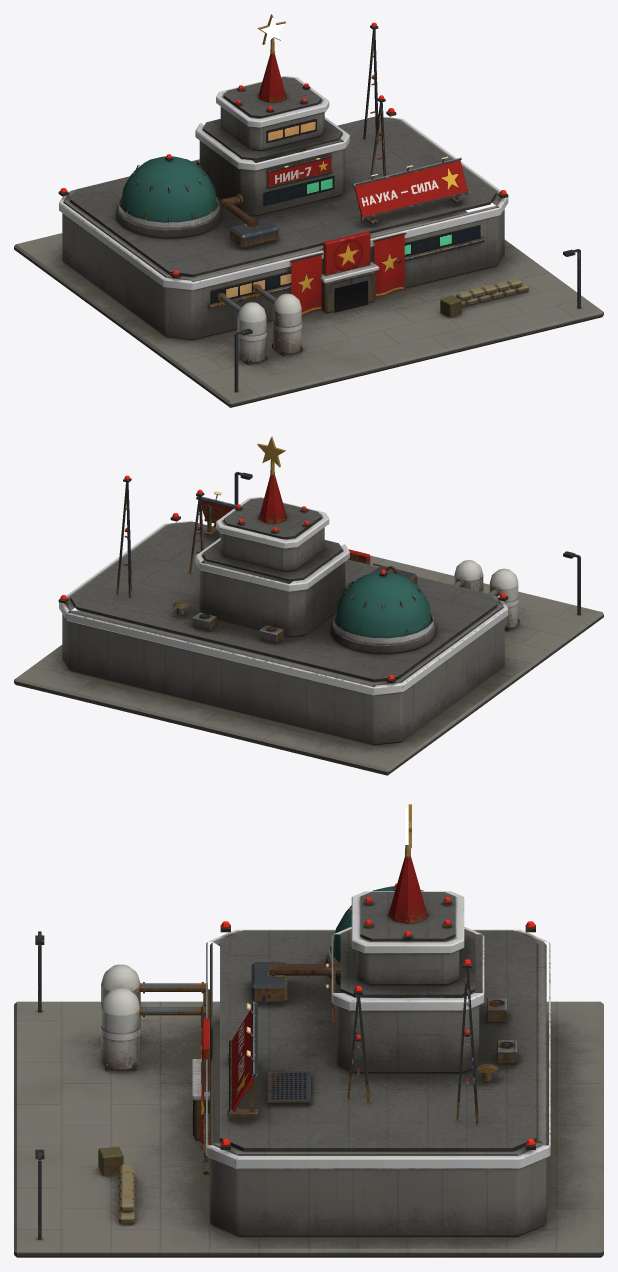
File: stek.soviet.glb
3 renders of one model, top to bottom at view 1: azimuth 30°, elevation 25°; view 2: azimuth 150°, elevation 25°; view 3: azimuth 270°, elevation 25°, orthographic. The views are drawn at different scales.
Parts seen in each view (by area): view 1: root_mesh; view 2: root_mesh; view 3: root_mesh.
Boxes of the visible parts, box(x1,y1,x2,y2) form: root_mesh: box(14, 22, 603, 407); root_mesh: box(14, 459, 603, 775); root_mesh: box(14, 845, 603, 1257).
Bounding box in the file's own units: 2.98 × 1.84 × 2.98.
3 materials, 1 textured.
